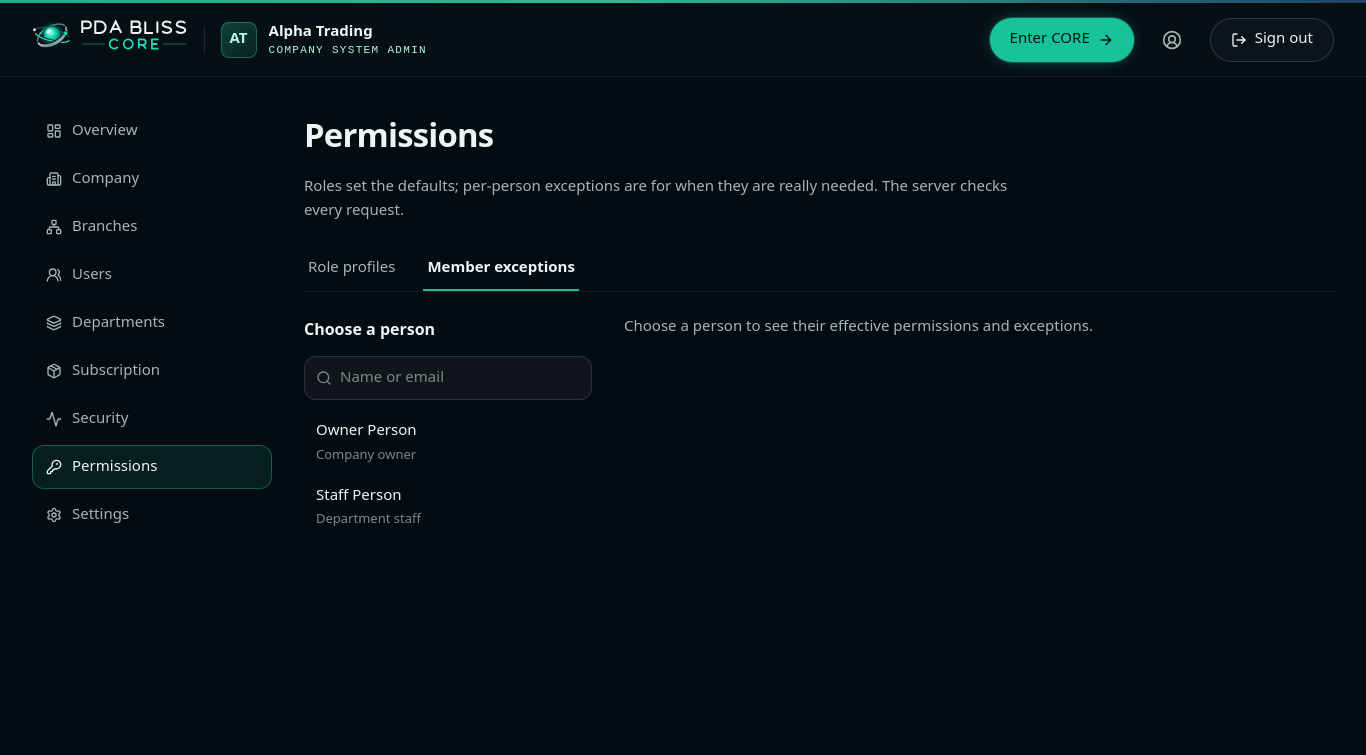
it: Permissions — member exceptions (EP27) › lists people, opens one, and shows grouped effective states with their source
expect the text "Choose a person to see" is shown: met, box [624,315,1093,338]
Click the link "Staff Person Department staff". click: (368, 507)
box: [316,484,421,529]
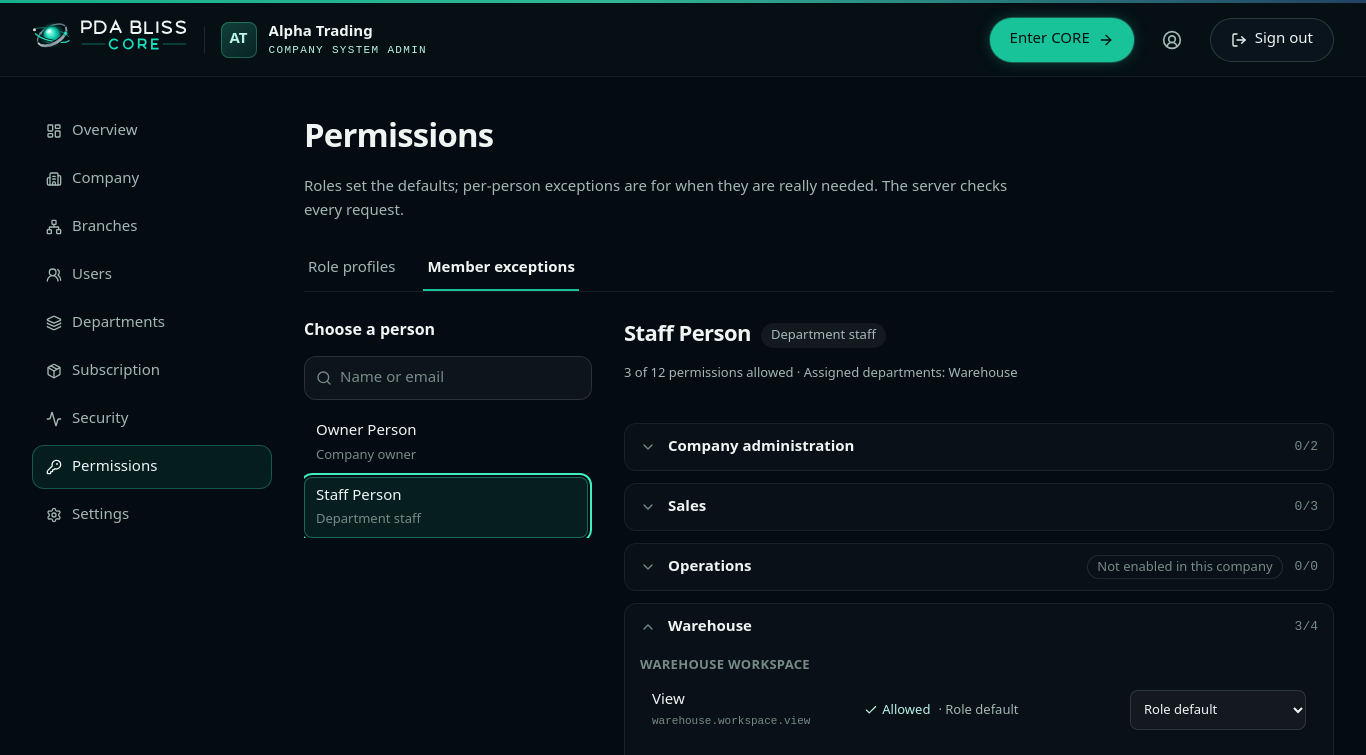
expect the heading "Staff Person" is shown: met, box [624,316,751,355]
expect the text "3 of 12 permissions allowed · Assigned departments: Warehouse" is shown: met, box [624,363,1018,383]
